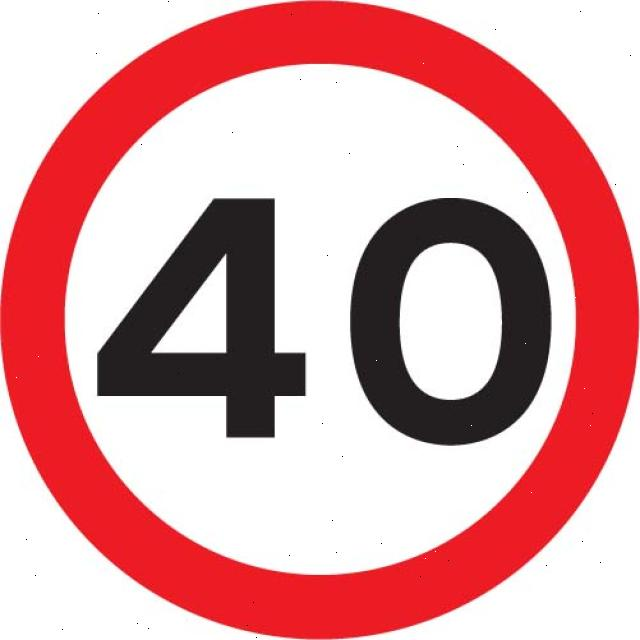speed_limit_40: (95, 183, 554, 463)
